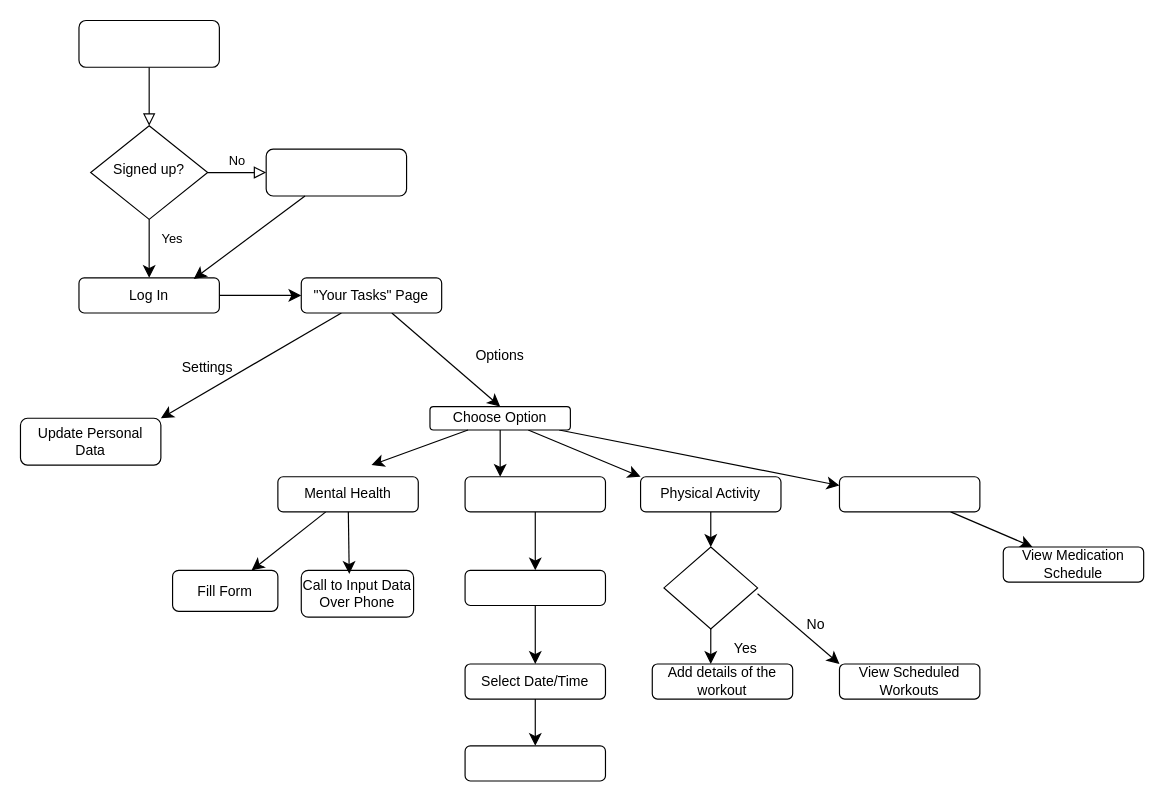
This 1164x801 diagram has some shape labels left out. The centre of each missing label's shape, as x and y in pixels:
"Add New Activity?" goes at [710,587].
"Confirm appointment" goes at [534,763].
"Doctor Appointment" goes at [534,494].
"Medication" goes at [909,494].
"Navigate to Application" goes at [148,43].
"Select Doctor" goes at [534,587].
"Verify Phone Number" goes at [336,172].
